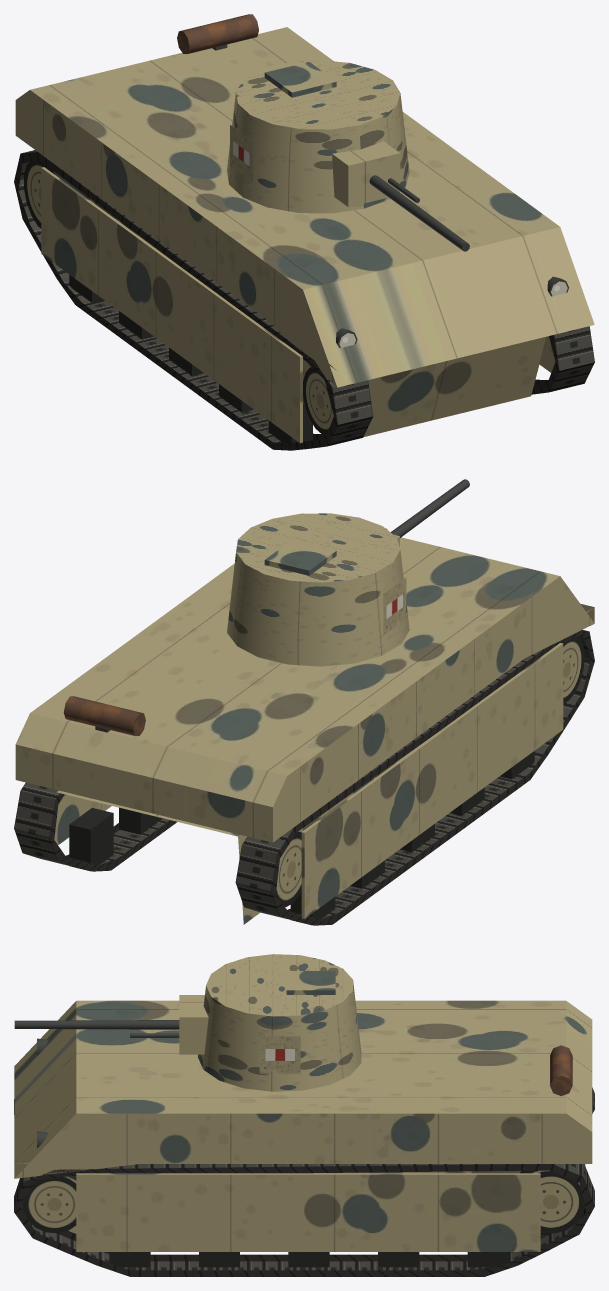
The model's file is armor-2.glb.
3 views of the same model, one above another, from view 1: azimuth 30°, elevation 25°; view 2: azimuth 150°, elevation 25°; view 3: azimuth 270°, elevation 25° (orthographic). The views are drawn at different scales.
Parts seen in each view (by area): view 1: hull, turret, tracks_right, gun, tracks_left, galets_right, hatch, roue_folle_right, barbotin_right; view 2: hull, turret, tracks_right, tracks_left, galets_left, galets_right, hatch, barbotin_right, roue_folle_right, gun; view 3: hull, turret, tracks_left, gun, galets_left, roue_folle_left, barbotin_left, hatch.
Boxes of the visible parts, box(x1,y1,x2,y2) form: hull: box(15, 14, 594, 443); turret: box(227, 60, 409, 213); tracks_right: box(14, 150, 373, 450); gun: box(332, 141, 469, 251); tracks_left: box(531, 326, 594, 394); galets_right: box(69, 274, 312, 442); hatch: box(264, 62, 336, 97); roue_folle_right: box(303, 367, 333, 435); barbotin_right: box(24, 160, 89, 228); hull: box(15, 513, 594, 924); turret: box(227, 513, 409, 666); tracks_right: box(235, 629, 594, 925); tracks_left: box(14, 782, 176, 871); galets_left: box(69, 807, 162, 871); galets_right: box(290, 751, 534, 925); hatch: box(264, 540, 336, 575); barbotin_right: box(276, 831, 301, 906); roue_folle_right: box(563, 637, 584, 703); gun: box(386, 479, 469, 547); hull: box(14, 1000, 592, 1251); turret: box(198, 954, 361, 1091); tracks_left: box(14, 1164, 594, 1276); gun: box(14, 995, 208, 1054); galets_left: box(109, 1252, 508, 1267); roue_folle_left: box(23, 1176, 76, 1233); barbotin_left: box(520, 1170, 584, 1233); hatch: box(286, 971, 335, 994).
Bounding box in the file's own units: 2.65 × 2.57 × 5.64.
5 materials, 5 textured.
